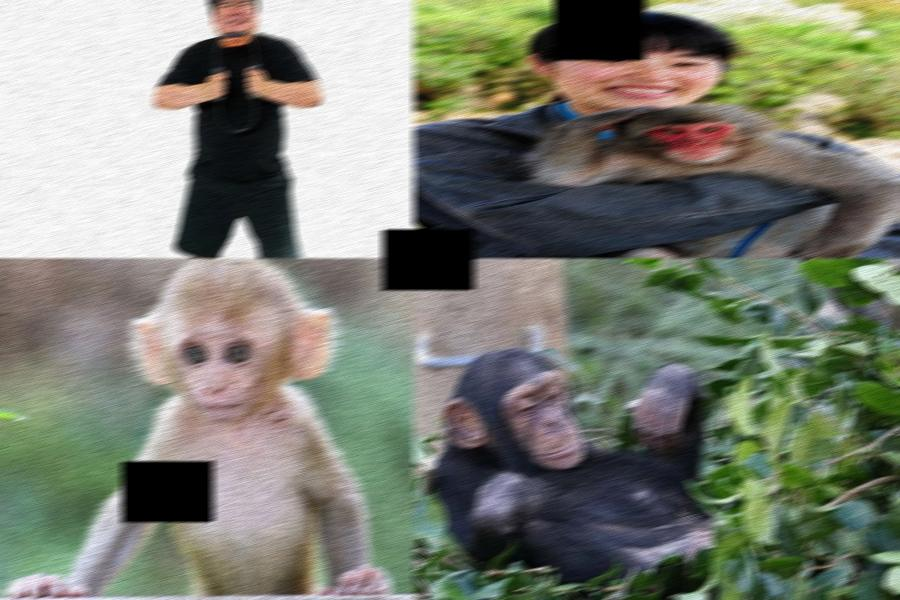Macaca fuscata: (16, 258, 396, 600), (528, 102, 900, 258)
chimpanzee: (434, 346, 743, 588)
human: (415, 10, 900, 257), (154, 0, 304, 258)
